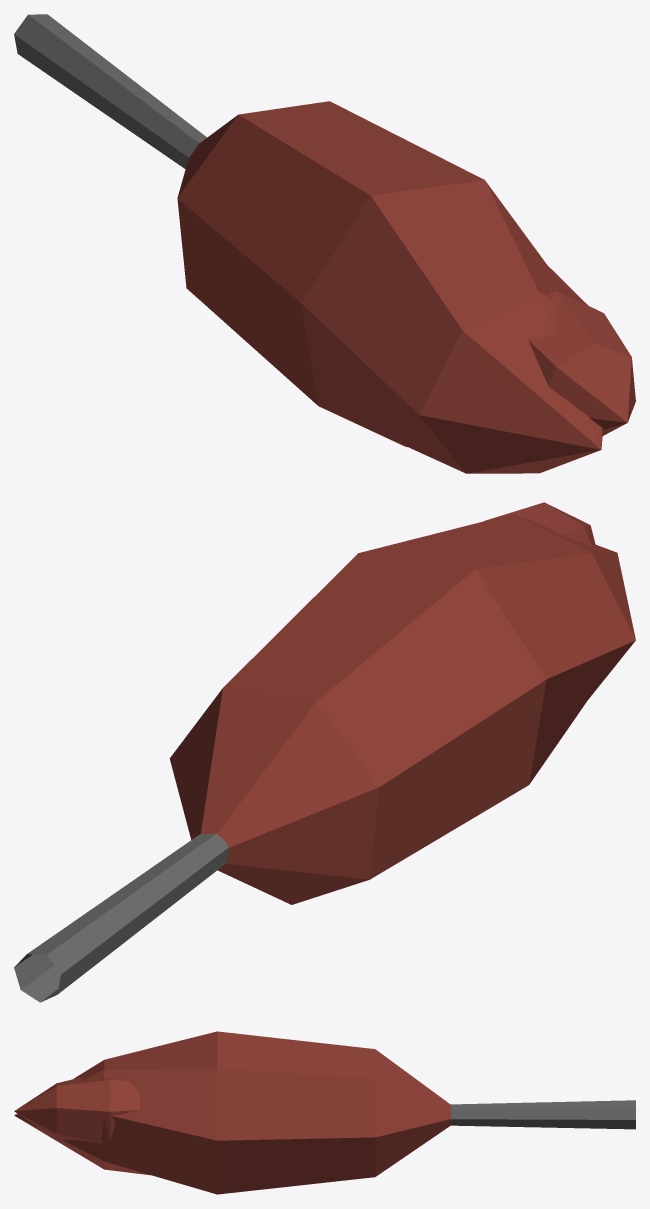
File: growth_2.glb
3 views of the same model, one above another, from view 1: azimuth 30°, elevation 25°; view 2: azimuth 150°, elevation 25°; view 3: azimuth 270°, elevation 25° (orthographic). The views are drawn at different scales.
Parts seen in each view (by area): view 1: tree_01_growth_2; view 2: tree_01_growth_2; view 3: tree_01_growth_2.
Boxes of the visible parts, <box> form: tree_01_growth_2: <box>14,14,635,473</box>; tree_01_growth_2: <box>14,502,635,1002</box>; tree_01_growth_2: <box>14,1031,635,1194</box>.
Bounding box in the file's own units: 6.97 × 7.02 × 27.72.
